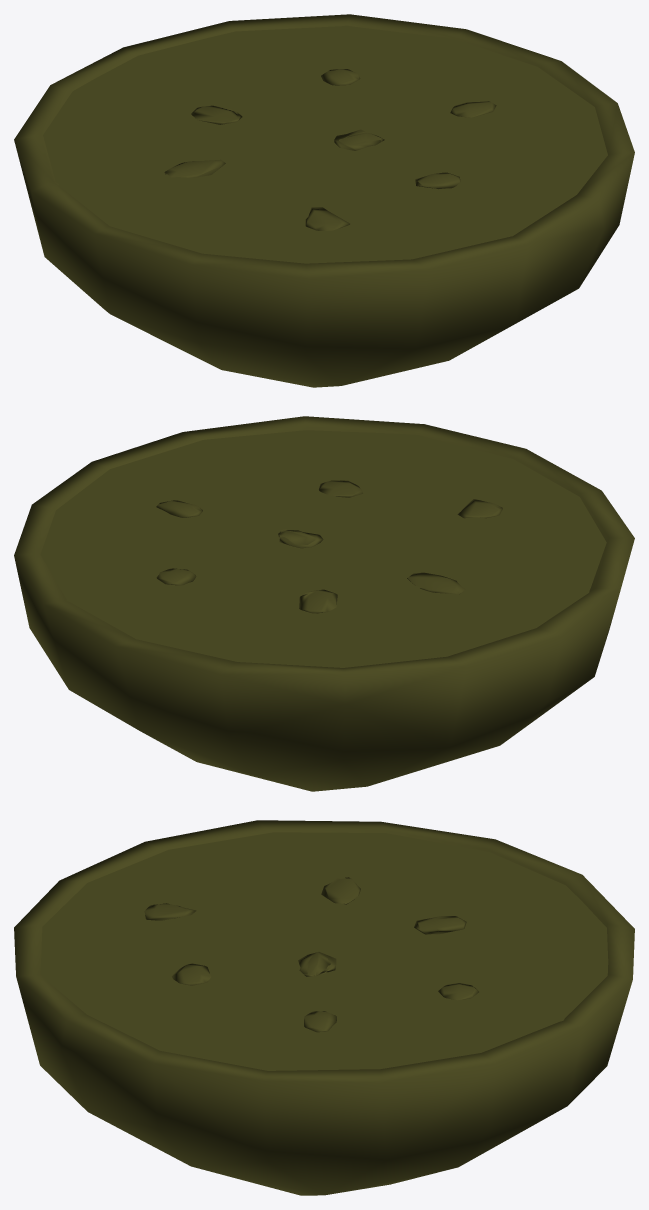
The model's file is Stew.fbx.
3 views of the same model, one above another, from view 1: azimuth 30°, elevation 25°; view 2: azimuth 150°, elevation 25°; view 3: azimuth 270°, elevation 25° (orthographic).
Parts seen in each view (by area): view 1: Stew4/4, Stew; view 2: Stew4/4, Stew; view 3: Stew4/4, Stew.
Boxes of the visible parts, bbox=[...] form: Stew4/4: bbox=[43, 25, 607, 263]; Stew: bbox=[14, 14, 634, 387]; Stew4/4: bbox=[40, 430, 606, 667]; Stew: bbox=[14, 416, 634, 791]; Stew4/4: bbox=[40, 832, 608, 1070]; Stew: bbox=[14, 820, 634, 1195].
Bounding box in the file's own units: 16.41 × 6.18 × 16.41.
